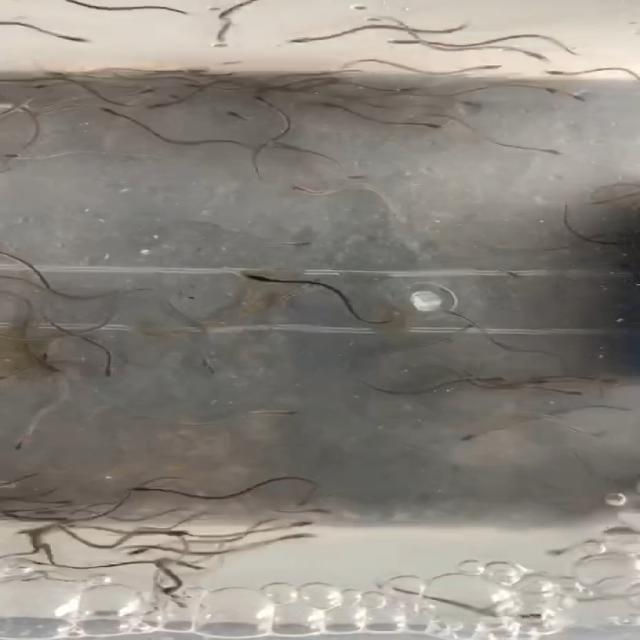active_glass_eel: (532, 85, 584, 108), (175, 348, 221, 372), (531, 66, 584, 83), (525, 142, 566, 162), (282, 177, 318, 199), (84, 105, 129, 121), (409, 118, 446, 137), (150, 577, 189, 595), (226, 271, 272, 285), (270, 533, 315, 547), (382, 34, 421, 50), (134, 98, 171, 114), (466, 61, 508, 75), (120, 480, 156, 496), (235, 88, 272, 103), (98, 357, 119, 382), (282, 34, 312, 51), (27, 77, 57, 94), (220, 104, 248, 122), (64, 34, 95, 50), (184, 80, 213, 96), (552, 388, 585, 402), (458, 430, 484, 447), (281, 240, 325, 250), (280, 516, 316, 528), (159, 527, 189, 540), (0, 150, 32, 162), (475, 374, 506, 386), (126, 83, 154, 96), (120, 548, 150, 556)
